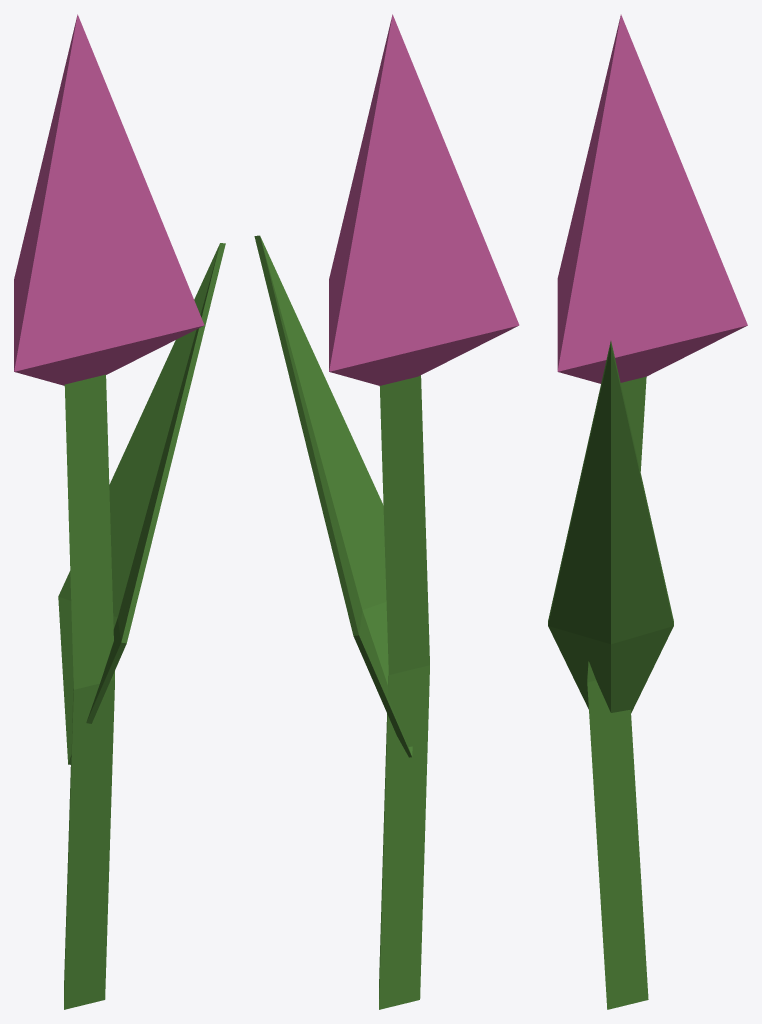
Rendered from Flower_tulip_violet_vc.fbx.
The picture shows the model from 3 angles, left to right: view 1: azimuth 30°, elevation 25°; view 2: azimuth 150°, elevation 25°; view 3: azimuth 270°, elevation 25°; orthographic projection.
Parts seen in each view (by area): view 1: Flower_tulip_violet_vc; view 2: Flower_tulip_violet_vc; view 3: Flower_tulip_violet_vc.
Boxes of the visible parts, x1=… form: Flower_tulip_violet_vc: x1=14, y1=14, x2=225, y2=1009; Flower_tulip_violet_vc: x1=254, y1=14, x2=519, y2=1009; Flower_tulip_violet_vc: x1=548, y1=14, x2=747, y2=1009.
Bounding box in the file's own units: 0.3822 × 1.51 × 0.2777.
